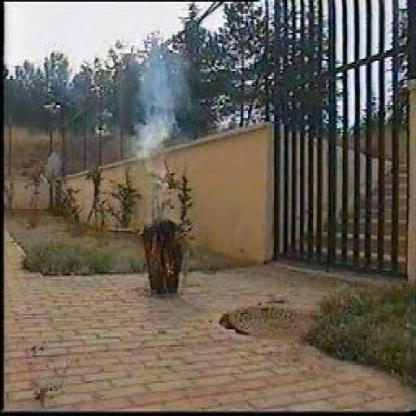-: (138, 39, 188, 160)
foggia-v2-map80-epoch100 - v1 4323: (146, 235, 161, 264)
